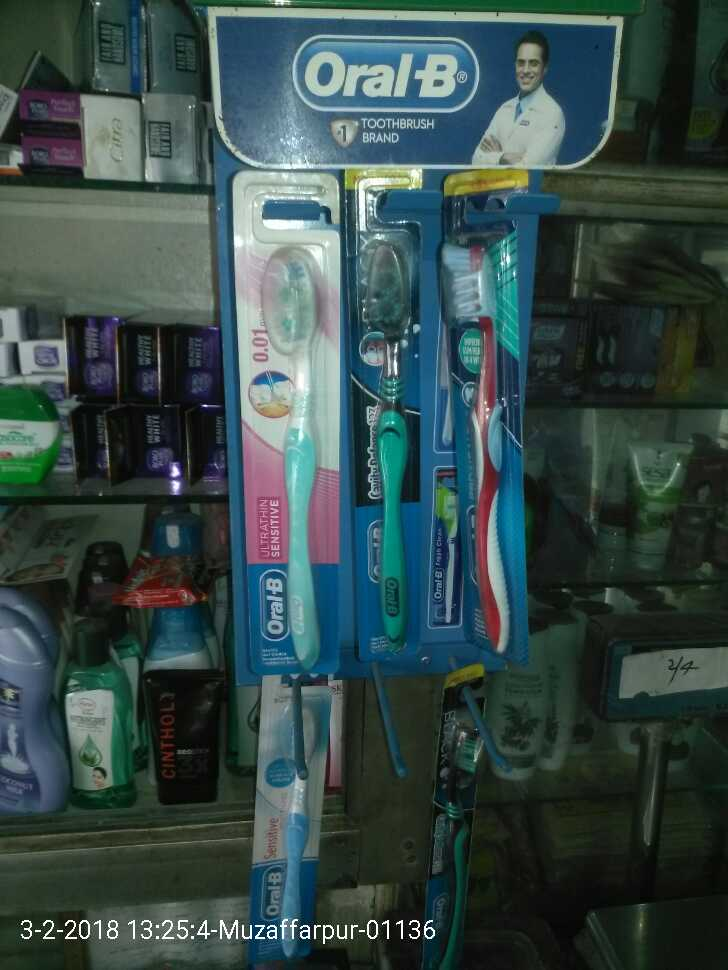oralb: (237, 169, 345, 677), (431, 167, 531, 680), (348, 163, 429, 658)
